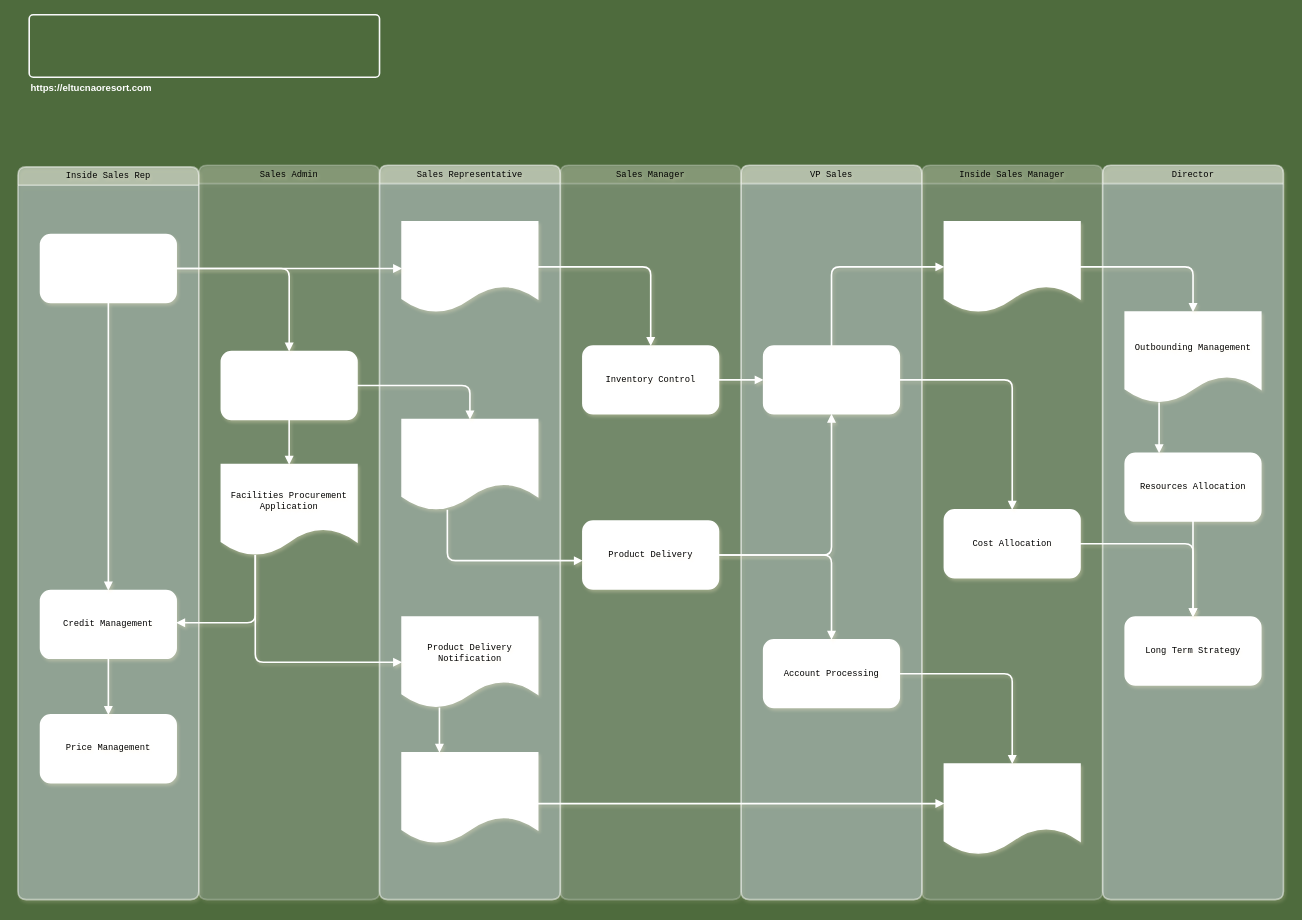
This 1302x920 diagram has some shape labels left out. Here are the shapes that lost their labels. From the top down, the centre of each, then its label:
At pixel 204 46: "EL TUCANO RESORT".
At pixel 108 269: "Customer Management".
At pixel 470 267: "Product Quotations".
At pixel 1012 267: "Sales Contract".
At pixel 289 386: "Material Requirements Planning Operation".
At pixel 831 381: "Outbound Accounting".
At pixel 470 465: "Orders".
At pixel 470 798: "Invoice".
At pixel 1012 810: "Bills".
